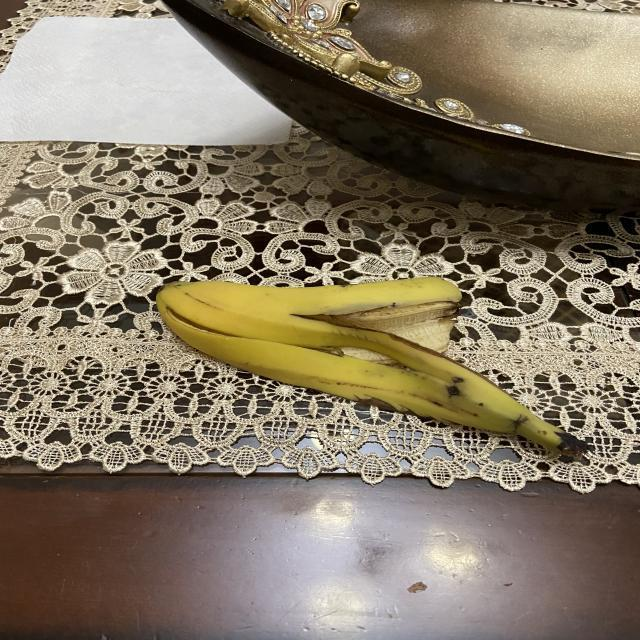banana-peel: (155, 274, 587, 461)
